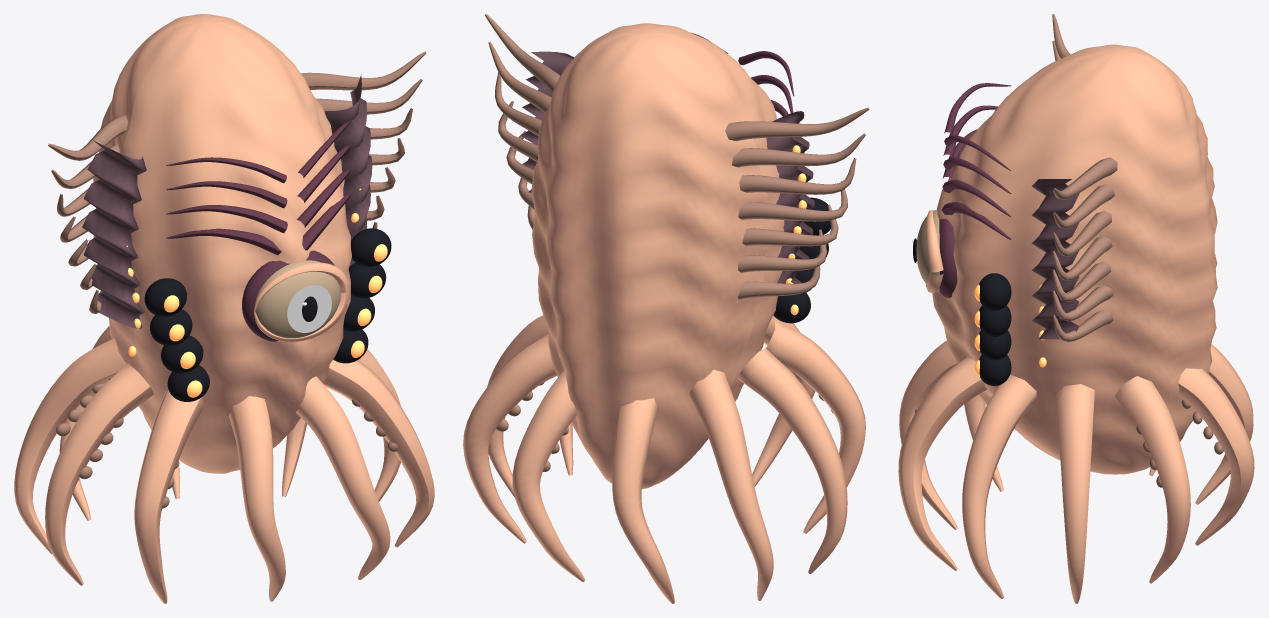
Rendered from larva_2.glb.
3 views of the same model, side by side, from view 1: azimuth 30°, elevation 25°; view 2: azimuth 150°, elevation 25°; view 3: azimuth 270°, elevation 25° (orthographic). The views are drawn at different scales.
Size of the model in its own units: 1.97 by 2.55 by 1.69.
